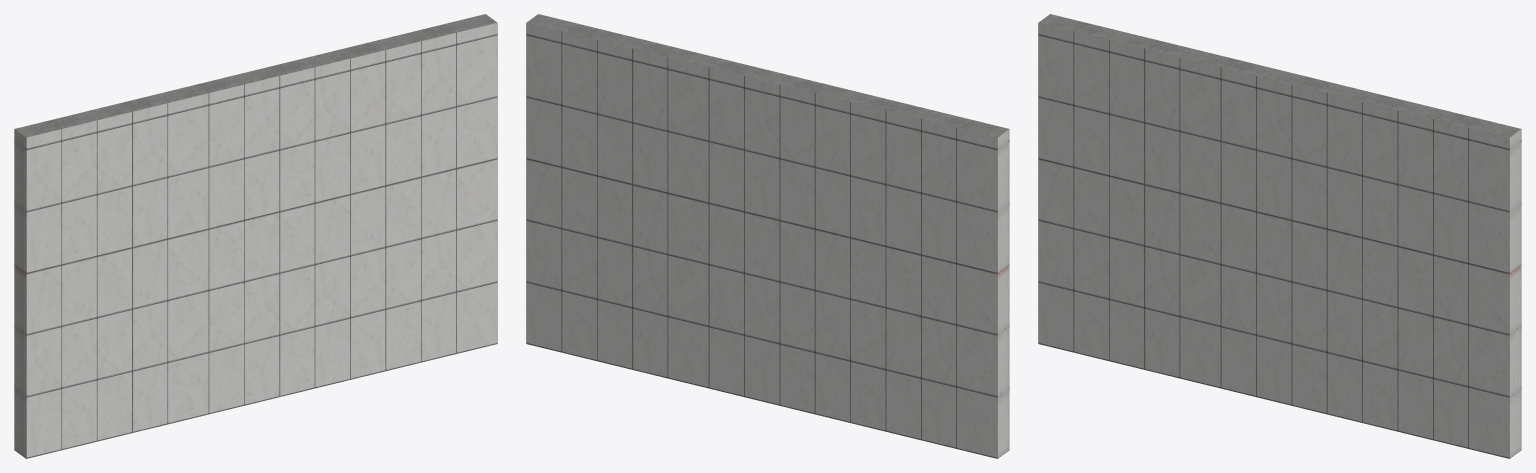
Rendered from TiledWall.fbx.
3 views of the same model, side by side, from view 1: azimuth 30°, elevation 25°; view 2: azimuth 150°, elevation 25°; view 3: azimuth 330°, elevation 25° (orthographic).
Parts seen in each view (by area): view 1: TiledWall; view 2: TiledWall; view 3: TiledWall.
Part boxes in pixels (<box>): TiledWall: <box>14,14,497,458</box>; TiledWall: <box>526,14,1009,458</box>; TiledWall: <box>1038,14,1521,458</box>.
Size of the model in its own units: 4 by 2.61 by 0.175.
